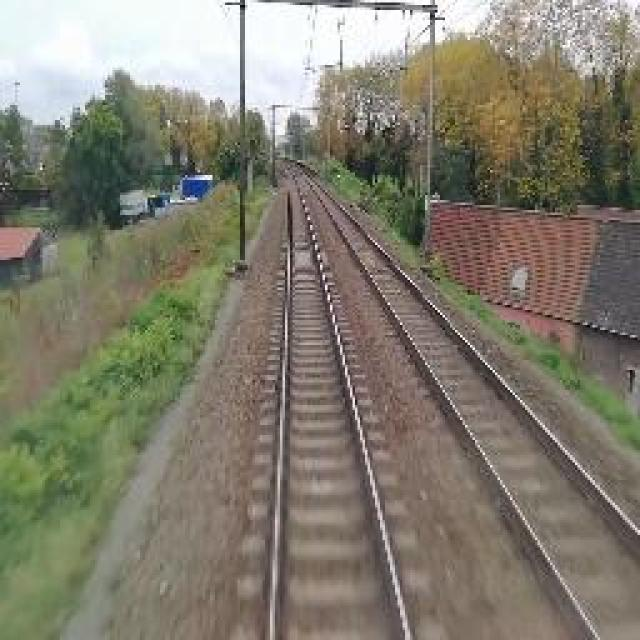rail: (230, 159, 454, 640)
